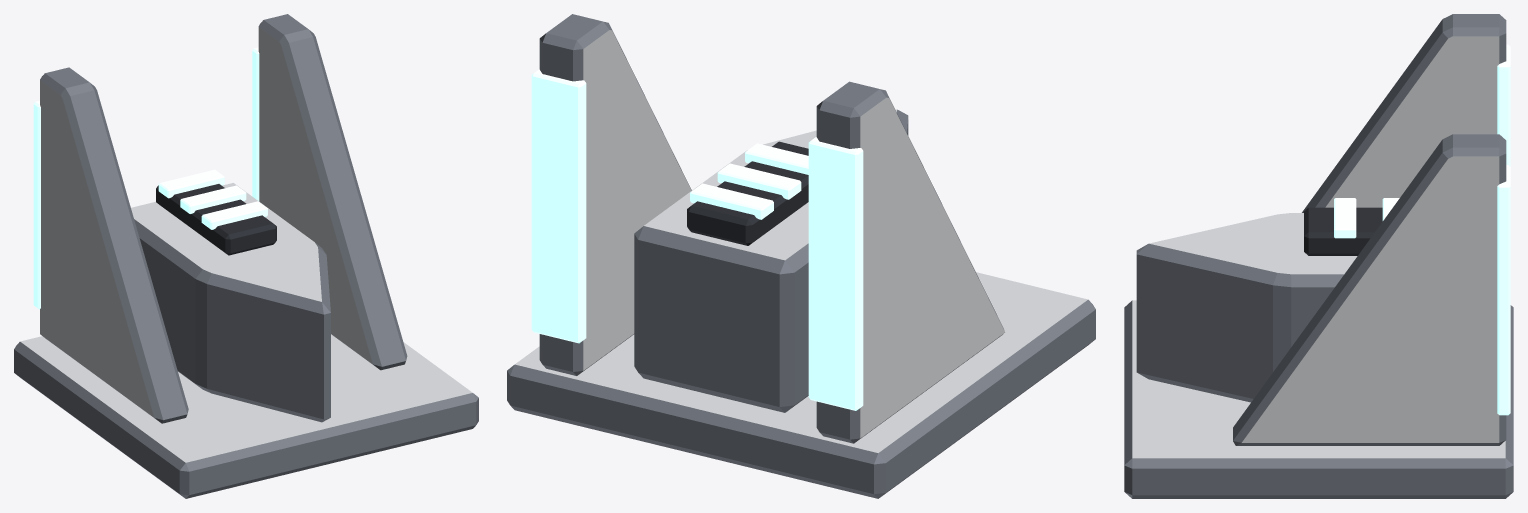
Rendered from R4X_MobilityBooster_LOD1.fbx.
3 renders of one model, left to right at view 1: azimuth 30°, elevation 25°; view 2: azimuth 150°, elevation 25°; view 3: azimuth 270°, elevation 25°, orthographic. The views are drawn at different scales.
Parts seen in each view (by area): view 1: R4X_MobilityBooster_LOD1; view 2: R4X_MobilityBooster_LOD1; view 3: R4X_MobilityBooster_LOD1.
Boxes of the visible parts, x1,y1,x2,y2 form: R4X_MobilityBooster_LOD1: [14, 14, 478, 498]; R4X_MobilityBooster_LOD1: [507, 14, 1095, 498]; R4X_MobilityBooster_LOD1: [1124, 14, 1513, 498].
Size of the model in its own units: 0.52 by 0.5 by 0.52.
